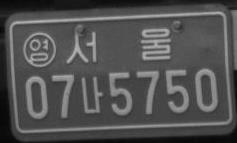0: (194, 67, 219, 114), (23, 75, 49, 120)
5: (107, 70, 133, 116), (164, 68, 190, 114)
7: (49, 73, 76, 119), (135, 69, 161, 115)
나: (80, 75, 102, 114)
서울_D: (64, 27, 172, 64)
영: (22, 31, 56, 68)
